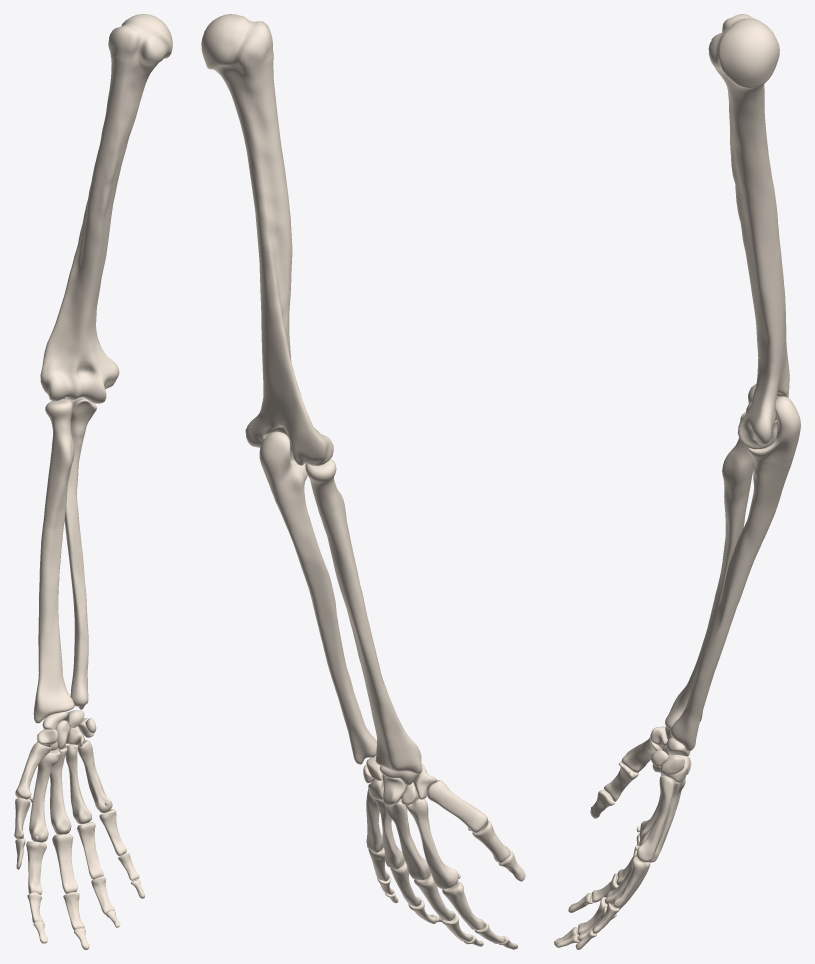
Rendered from elbow_joint.glb.
3 views of the same model, side by side, from view 1: azimuth 30°, elevation 25°; view 2: azimuth 150°, elevation 25°; view 3: azimuth 270°, elevation 25° (orthographic). The views are drawn at different scales.
Parts seen in each view (by area): view 1: Humerus.r, Radius.r, Ulna.r, 2nd metacarpal bone.r, 3rd metacarpal bone.r, 4th metacarpal bone.r, 5th metacarpal bone.r, Proximal phalanx of 3rd finger.r, 1st metacarpal bone.r, Proximal phalanx of 2d finger.r, Proximal phalanx of 4th finger.r, Proximal phalanx of 5th finger.r (+3 smaller); view 2: Humerus.r, Ulna.r, Radius.r, 2nd metacarpal bone.r, 3rd metacarpal bone.r, 1st metacarpal bone.r, 4th metacarpal bone.r, Proximal phalanx of 2d finger.r, 5th metacarpal bone.r, Proximal phalanx of 3rd finger.r, Proximal phalanx of 1st finger.r; view 3: Humerus.r, Ulna.r, Radius.r, 5th metacarpal bone.r, 1st metacarpal bone.r, Proximal phalanx of 5th finger.r, Proximal phalanx of 1st finger.r.
Part boxes in pixels (x1=…): Humerus.r: x1=40, y1=14, x2=172, y2=403; Radius.r: x1=33, y1=399, x2=74, y2=723; Ulna.r: x1=63, y1=397, x2=96, y2=709; 2nd metacarpal bone.r: x1=29, y1=749, x2=60, y2=842; 3rd metacarpal bone.r: x1=50, y1=747, x2=71, y2=834; 4th metacarpal bone.r: x1=65, y1=744, x2=91, y2=824; 5th metacarpal bone.r: x1=78, y1=740, x2=112, y2=812; Proximal phalanx of 3rd finger.r: x1=52, y1=834, x2=77, y2=893; 1st metacarpal bone.r: x1=15, y1=742, x2=51, y2=799; Proximal phalanx of 2d finger.r: x1=26, y1=841, x2=46, y2=894; Proximal phalanx of 4th finger.r: x1=77, y1=822, x2=103, y2=879; Proximal phalanx of 5th finger.r: x1=99, y1=809, x2=126, y2=855; Humerus.r: x1=201, y1=14, x2=333, y2=465; Ulna.r: x1=259, y1=431, x2=376, y2=764; Radius.r: x1=305, y1=459, x2=422, y2=773; 2nd metacarpal bone.r: x1=405, y1=798, x2=458, y2=889; 3rd metacarpal bone.r: x1=386, y1=798, x2=430, y2=880; 1st metacarpal bone.r: x1=427, y1=780, x2=487, y2=832; 4th metacarpal bone.r: x1=375, y1=799, x2=404, y2=868; Proximal phalanx of 2d finger.r: x1=442, y1=881, x2=484, y2=929; 5th metacarpal bone.r: x1=366, y1=789, x2=383, y2=852; Proximal phalanx of 3rd finger.r: x1=414, y1=873, x2=455, y2=920; Proximal phalanx of 1st finger.r: x1=472, y1=820, x2=510, y2=862; Humerus.r: x1=708, y1=14, x2=789, y2=449; Ulna.r: x1=670, y1=396, x2=800, y2=751; Radius.r: x1=665, y1=412, x2=753, y2=729; 5th metacarpal bone.r: x1=636, y1=775, x2=675, y2=862; 1st metacarpal bone.r: x1=622, y1=735, x2=661, y2=772; Proximal phalanx of 5th finger.r: x1=612, y1=857, x2=645, y2=907; Proximal phalanx of 1st finger.r: x1=604, y1=761, x2=638, y2=801.
Bounding box in the file's own units: 0.1903 × 0.7055 × 0.1573.
